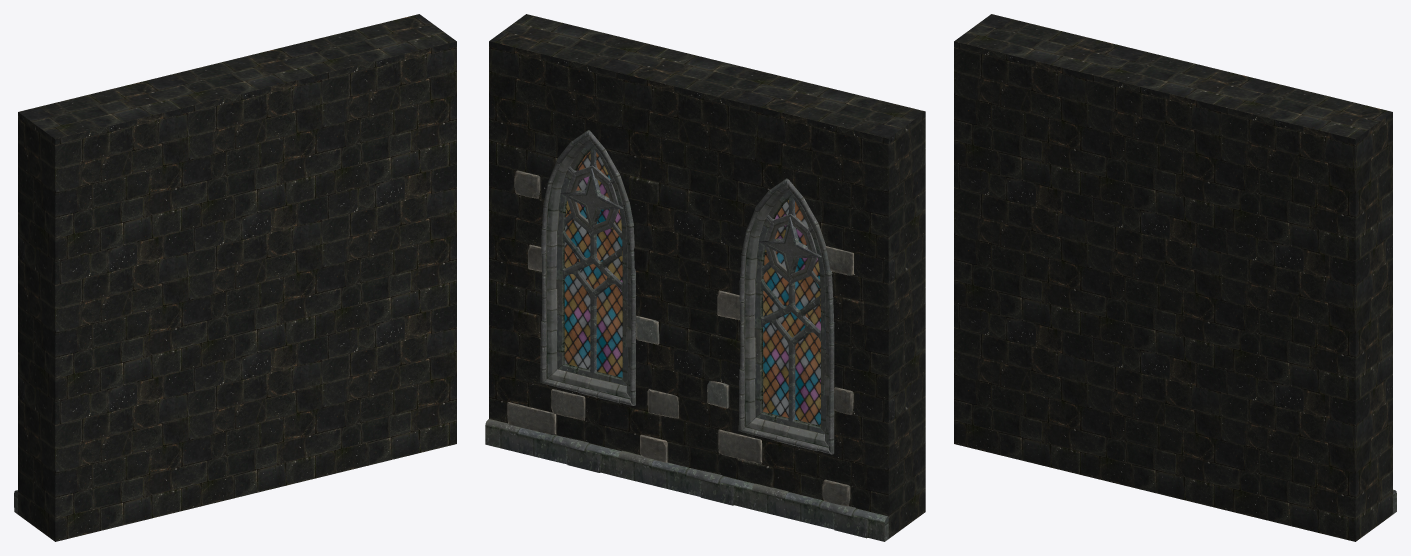
3 views of the same model, side by side, from view 1: azimuth 30°, elevation 25°; view 2: azimuth 150°, elevation 25°; view 3: azimuth 330°, elevation 25° (orthographic).
Parts seen in each view (by area): view 1: SM_SaradominTemple_Arch_12x12_02_v2_LOD0; view 2: SM_SaradominTemple_Arch_12x12_02_v2_LOD0; view 3: SM_SaradominTemple_Arch_12x12_02_v2_LOD0.
Part boxes in pixels (x1=…): SM_SaradominTemple_Arch_12x12_02_v2_LOD0: x1=14, y1=14, x2=456, y2=541; SM_SaradominTemple_Arch_12x12_02_v2_LOD0: x1=485, y1=14, x2=925, y2=541; SM_SaradominTemple_Arch_12x12_02_v2_LOD0: x1=954, y1=14, x2=1396, y2=541.
Bounding box in the file's own units: 12 × 11.5 × 2.17.
Materials: 4 (4 with a texture image).
